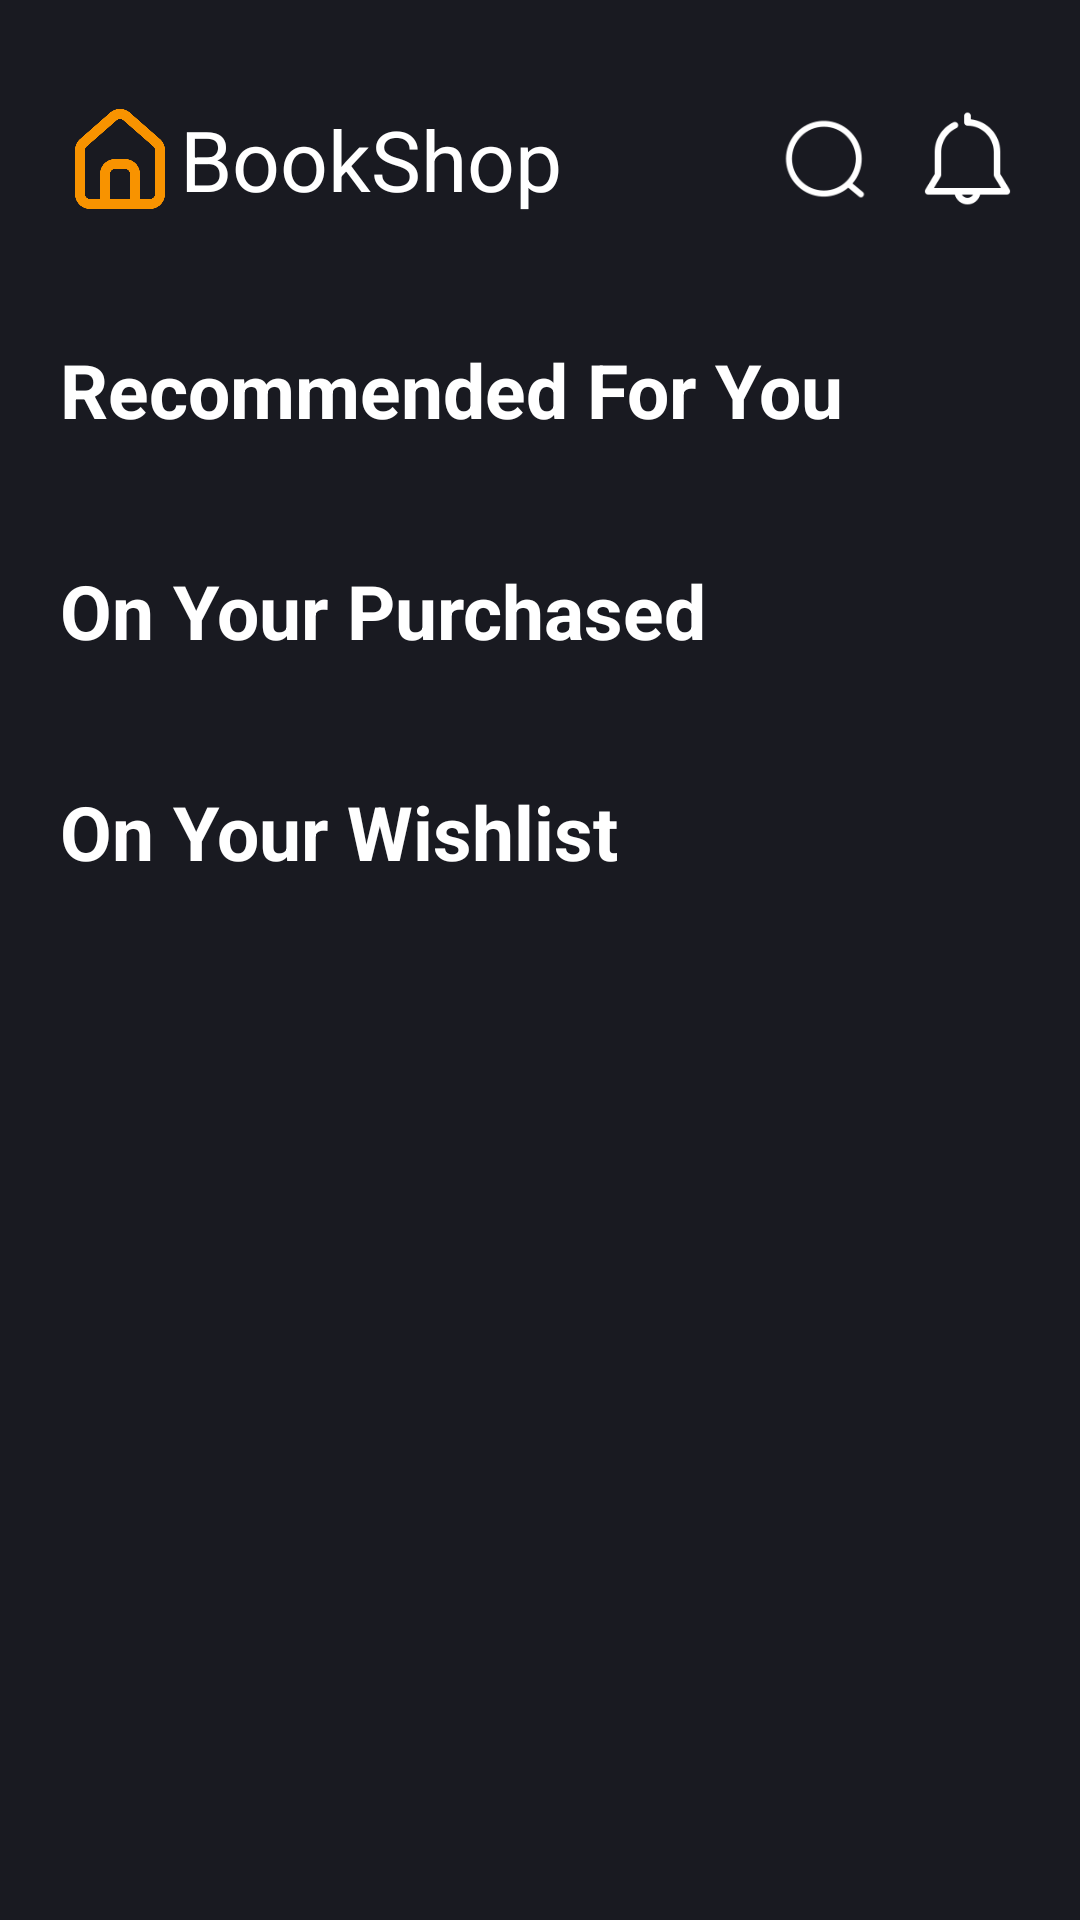

Screen size 1080 × 1920. Icon name, then its box in pixels as (x1, y1, x2, y2):
notification: (925, 112, 1010, 205)
search: (785, 120, 865, 198)
